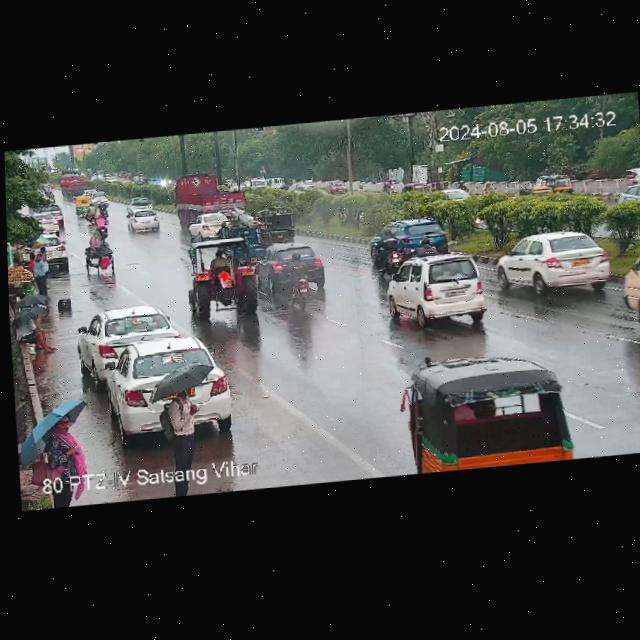car: (400, 347, 578, 473), (102, 333, 237, 443), (383, 248, 491, 329), (496, 226, 617, 298), (78, 302, 175, 368), (371, 212, 461, 266), (78, 229, 118, 274), (20, 232, 72, 266), (251, 239, 288, 286), (519, 176, 579, 202), (259, 206, 298, 245), (15, 203, 65, 233), (190, 211, 232, 239), (125, 207, 164, 233), (72, 194, 92, 216), (127, 196, 154, 211), (90, 190, 106, 205)
motorcycle: (173, 166, 249, 218), (278, 252, 310, 312), (366, 226, 399, 276), (415, 231, 435, 254), (93, 214, 107, 239), (214, 214, 228, 238), (86, 203, 96, 223), (100, 199, 109, 216)
person: (166, 382, 207, 462), (38, 415, 92, 470), (13, 314, 54, 358), (27, 250, 54, 296), (37, 246, 49, 266)
truck: (187, 235, 262, 321), (614, 240, 640, 345), (58, 169, 89, 196)
